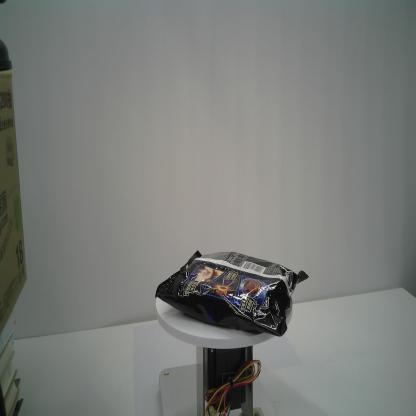Instant Noodles: (154, 248, 309, 339)
